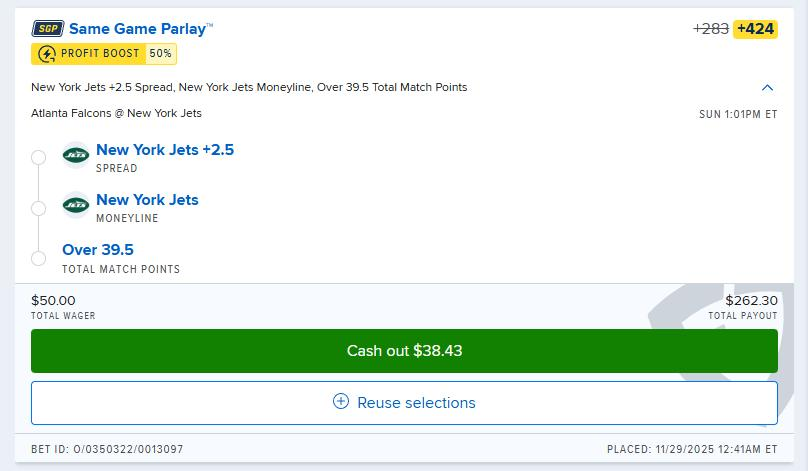game: (26, 104, 208, 125)
odds: (734, 21, 776, 39)
payout: (721, 294, 779, 310)
wager: (29, 289, 79, 309)
